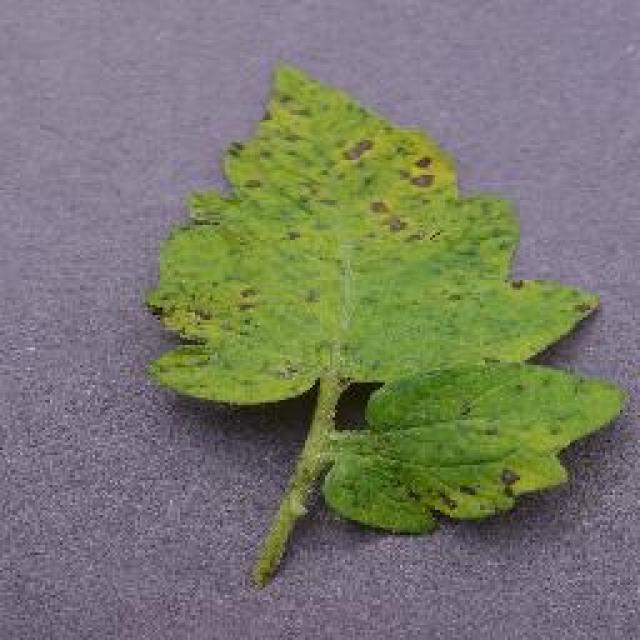Tomato___Septoria_leaf_spot: (145, 68, 622, 582)
